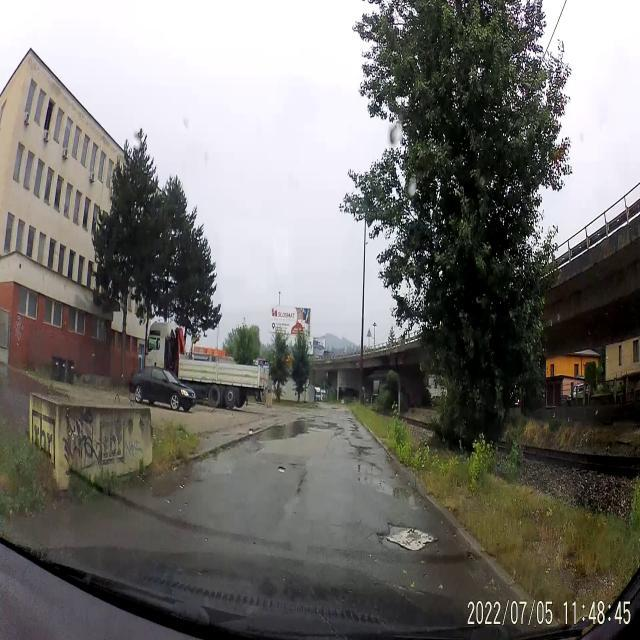Pothole: (380, 518, 436, 563), (350, 442, 374, 460)
